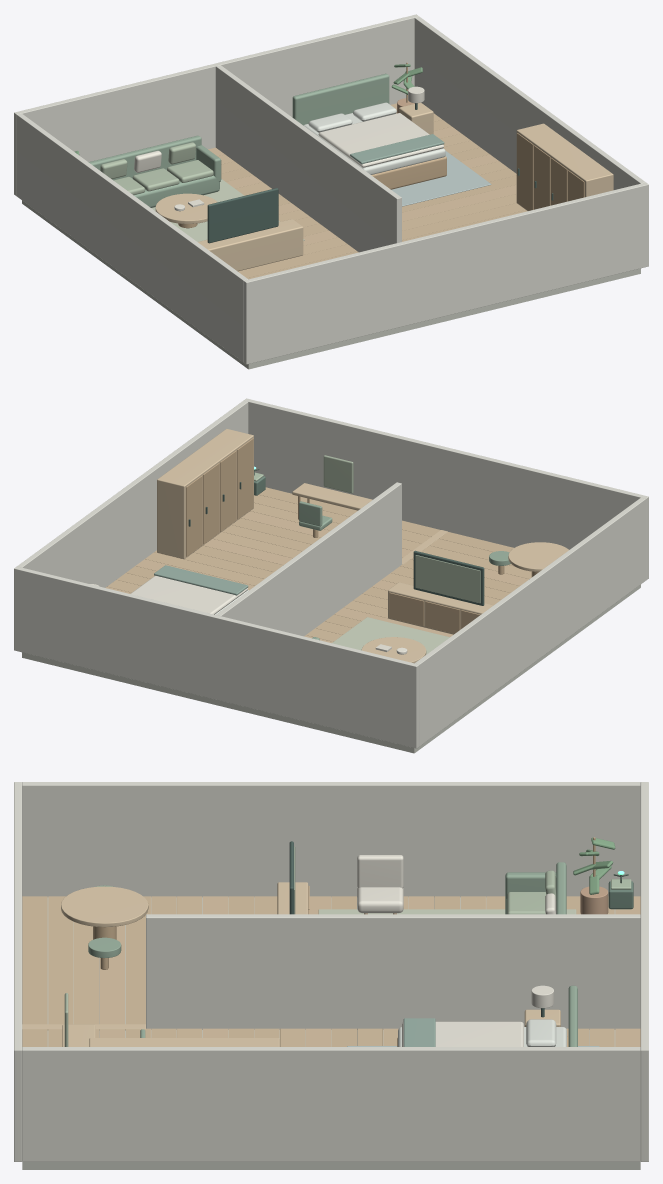
File: room.glb
The picture shows the model from 3 angles, top to bottom: view 1: azimuth 30°, elevation 25°; view 2: azimuth 150°, elevation 25°; view 3: azimuth 270°, elevation 25°; orthographic projection. The views are drawn at different scales.
Parts seen in each view (by area): view 1: Wall_Front.002, Wall_Back.004, Wall_Left.004, Wall_Partition_Main.002, Wall_Right.004, Structure_Floor.002, Furniture_Living_TV_Console.002, Furniture_Bedroom_Duvet.002, Furniture_Bedroom_Headboard.002, Decor_Living_TV_Frame.002, Furniture_Bedroom_Wardrobe.002, Structure_Oak_Plank_09.004 (+22 smaller); view 2: Wall_Back.004, Wall_Front.002, Wall_Left.004, Wall_Partition_Main.002, Wall_Right.004, Furniture_Bedroom_Wardrobe.002, Structure_Floor.002, Decor_Living_TV_Screen.002, Furniture_Bedroom_Duvet.002, Furniture_Living_Rug.002, Structure_Oak_Plank_00.004, Structure_Oak_Plank_02.004 (+26 smaller); view 3: Wall_Right.004, Wall_Left.004, Wall_Partition_Main.002, Structure_Floor.002, Structure_Oak_Plank_00.004, Wall_Back.004, Wall_Front.002, Structure_Oak_Plank_01.004, Furniture_Living_DiningTable.002, Structure_Oak_Plank_04.004, Structure_Oak_Plank_02.004, Furniture_Bedroom_Duvet.002 (+25 smaller).
Part boxes in pixels (left/top/right/bottom): Wall_Front.002: left=243, top=182, right=648, bottom=364; Wall_Back.004: left=14, top=14, right=418, bottom=196; Wall_Left.004: left=17, top=113, right=247, bottom=362; Wall_Partition_Main.002: left=215, top=65, right=401, bottom=252; Wall_Right.004: left=414, top=16, right=645, bottom=189; Structure_Floor.002: left=22, top=200, right=640, bottom=369; Furniture_Living_TV_Console.002: left=198, top=219, right=303, bottom=271; Furniture_Bedroom_Duvet.002: left=318, top=113, right=444, bottom=167; Furniture_Bedroom_Headboard.002: left=292, top=73, right=389, bottom=125; Decor_Living_TV_Frame.002: left=207, top=188, right=278, bottom=243; Furniture_Bedroom_Wardrobe.002: left=516, top=123, right=613, bottom=210; Structure_Oak_Plank_09.004: left=238, top=203, right=525, bottom=277; Wall_Back.004: left=14, top=566, right=419, bottom=748; Wall_Front.002: left=244, top=398, right=648, bottom=580; Wall_Left.004: left=415, top=497, right=645, bottom=746; Wall_Partition_Main.002: left=216, top=482, right=401, bottom=636; Wall_Right.004: left=17, top=400, right=248, bottom=587; Furniture_Bedroom_Wardrobe.002: left=157, top=429, right=253, bottom=558; Structure_Floor.002: left=22, top=584, right=640, bottom=753; Decor_Living_TV_Screen.002: left=415, top=555, right=480, bottom=603; Furniture_Bedroom_Duvet.002: left=130, top=575, right=247, bottom=614; Furniture_Living_Rug.002: left=332, top=617, right=449, bottom=654; Structure_Oak_Plank_00.004: left=259, top=487, right=513, bottom=552; Structure_Oak_Plank_02.004: left=250, top=503, right=531, bottom=579; Wall_Right.004: left=22, top=1047, right=640, bottom=1161; Wall_Left.004: left=22, top=782, right=640, bottom=897; Wall_Partition_Main.002: left=146, top=914, right=640, bottom=1029; Structure_Floor.002: left=22, top=897, right=640, bottom=1169; Structure_Oak_Plank_00.004: left=22, top=896, right=47, bottom=1046; Wall_Back.004: left=640, top=782, right=648, bottom=1161; Wall_Front.002: left=14, top=782, right=22, bottom=1161; Structure_Oak_Plank_01.004: left=48, top=896, right=73, bottom=1046; Furniture_Living_DiningTable.002: left=61, top=886, right=148, bottom=927; Structure_Oak_Plank_04.004: left=125, top=896, right=150, bottom=1037; Structure_Oak_Plank_02.004: left=74, top=922, right=99, bottom=1037; Furniture_Bedroom_Duvet.002: left=402, top=1021, right=523, bottom=1046.
Bounding box in the file's own units: 12.32 × 2.64 × 12.32.
